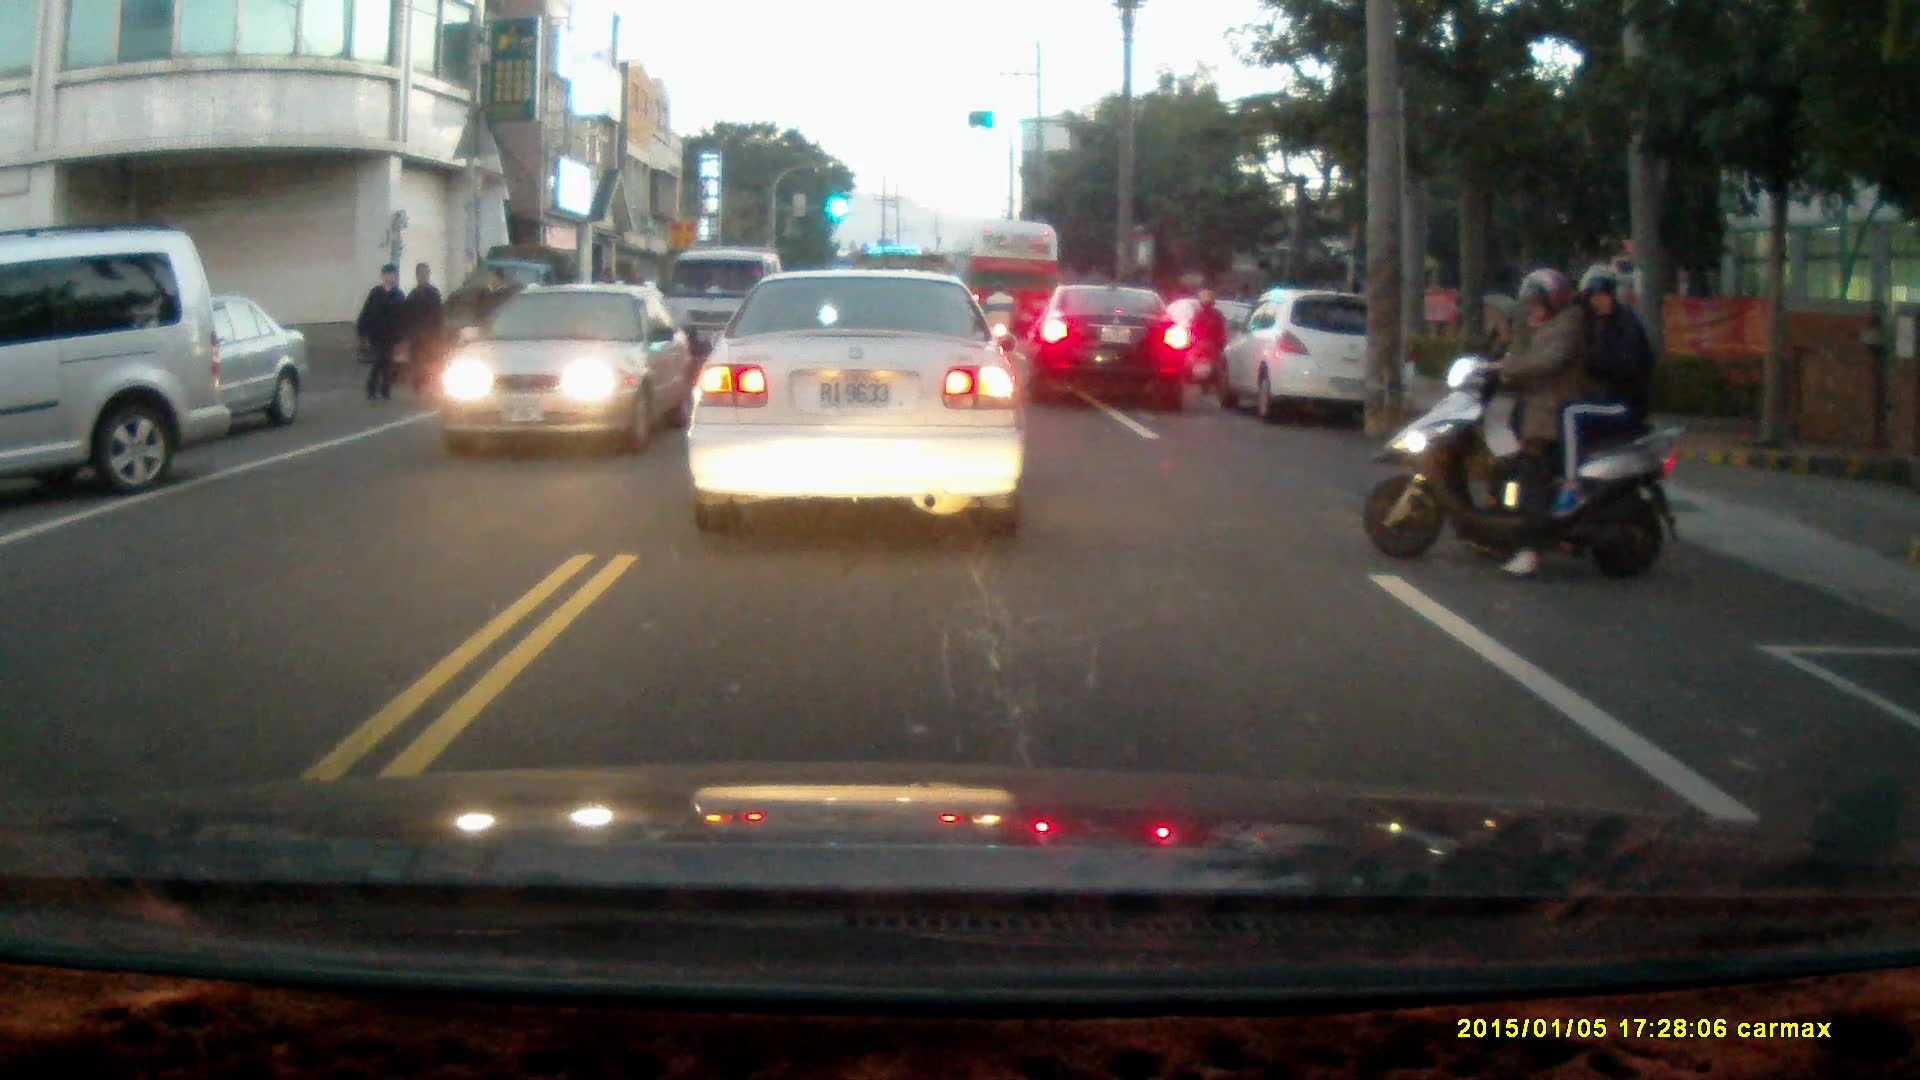pedestrian: (353, 260, 408, 410), (461, 265, 513, 389), (401, 259, 443, 394)
rider: (1364, 263, 1692, 584), (1184, 289, 1230, 397), (980, 283, 1019, 361)
vehicle: (686, 264, 1030, 538), (1, 222, 225, 502), (440, 284, 695, 461), (33, 289, 312, 434), (1220, 286, 1420, 429), (1026, 288, 1196, 413), (664, 247, 788, 378), (960, 218, 1064, 355)
